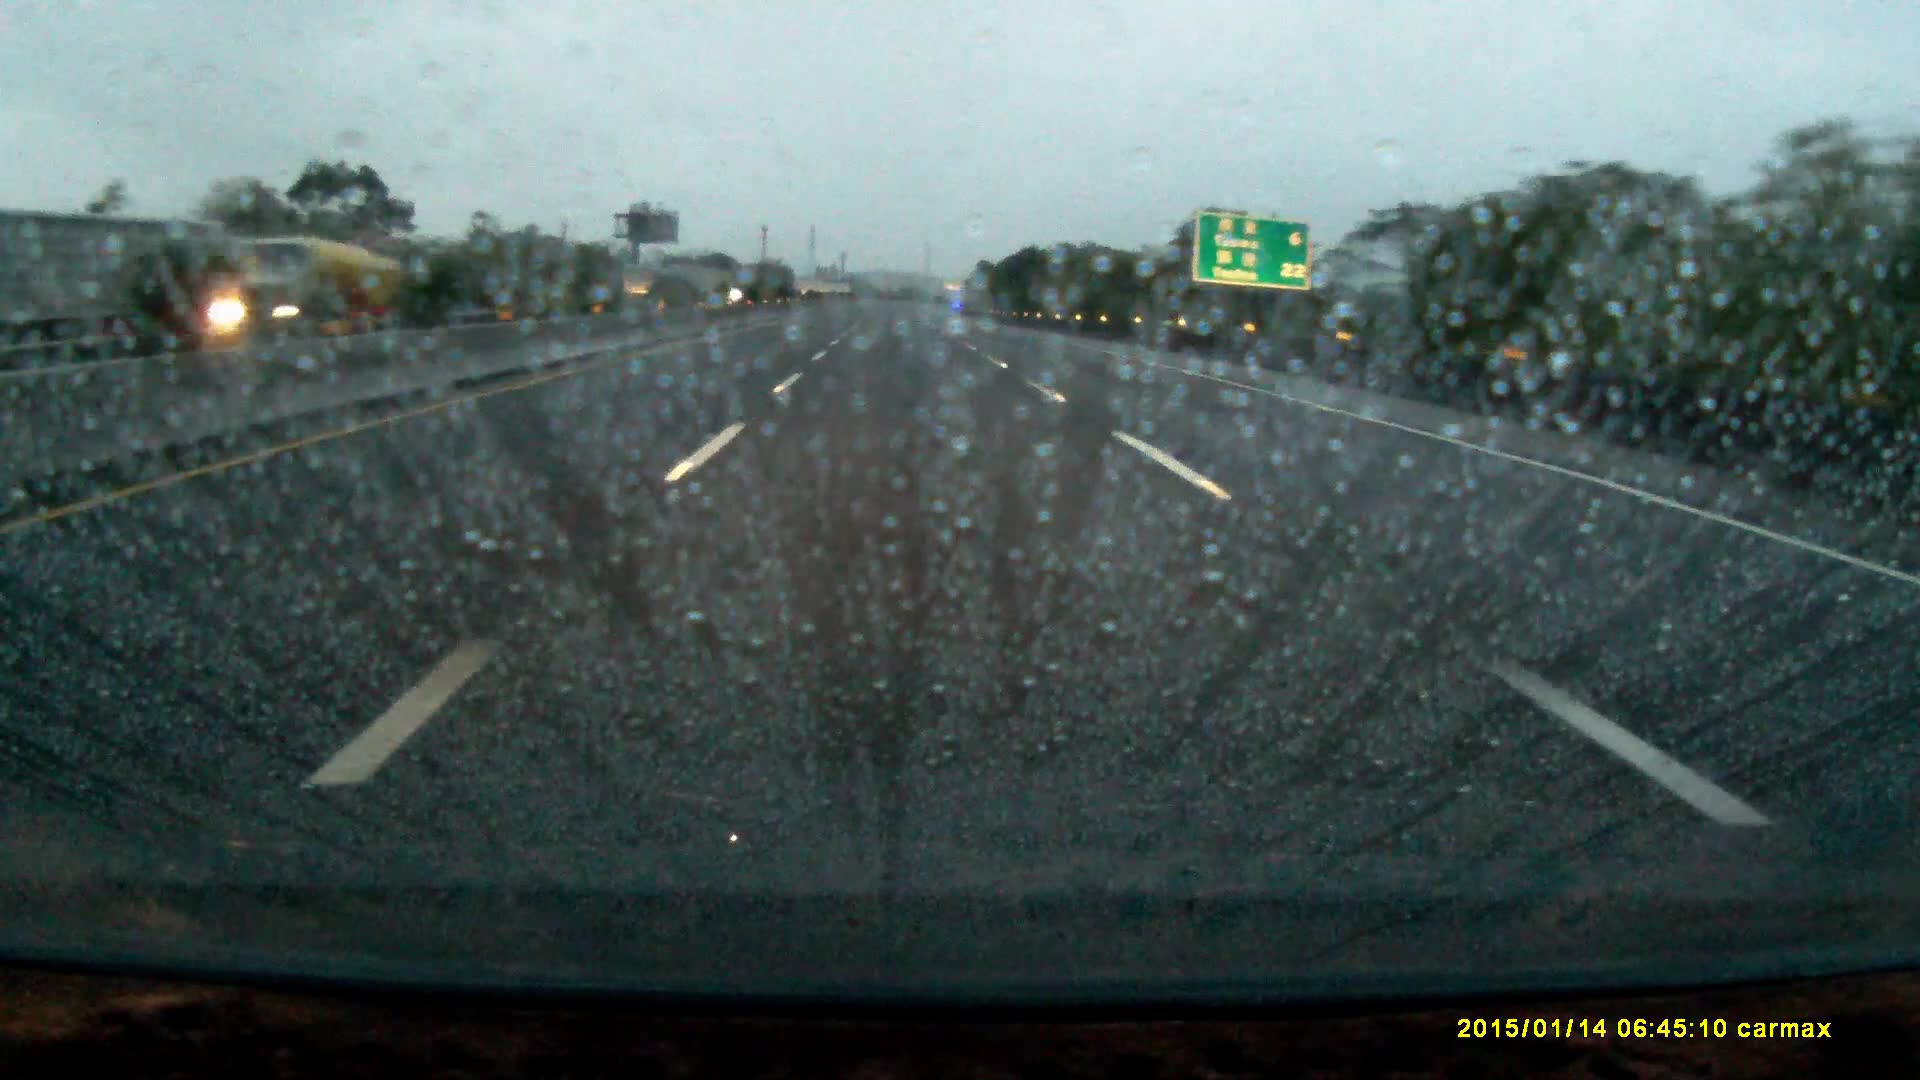vehicle: (182, 241, 388, 326), (204, 290, 335, 335)
